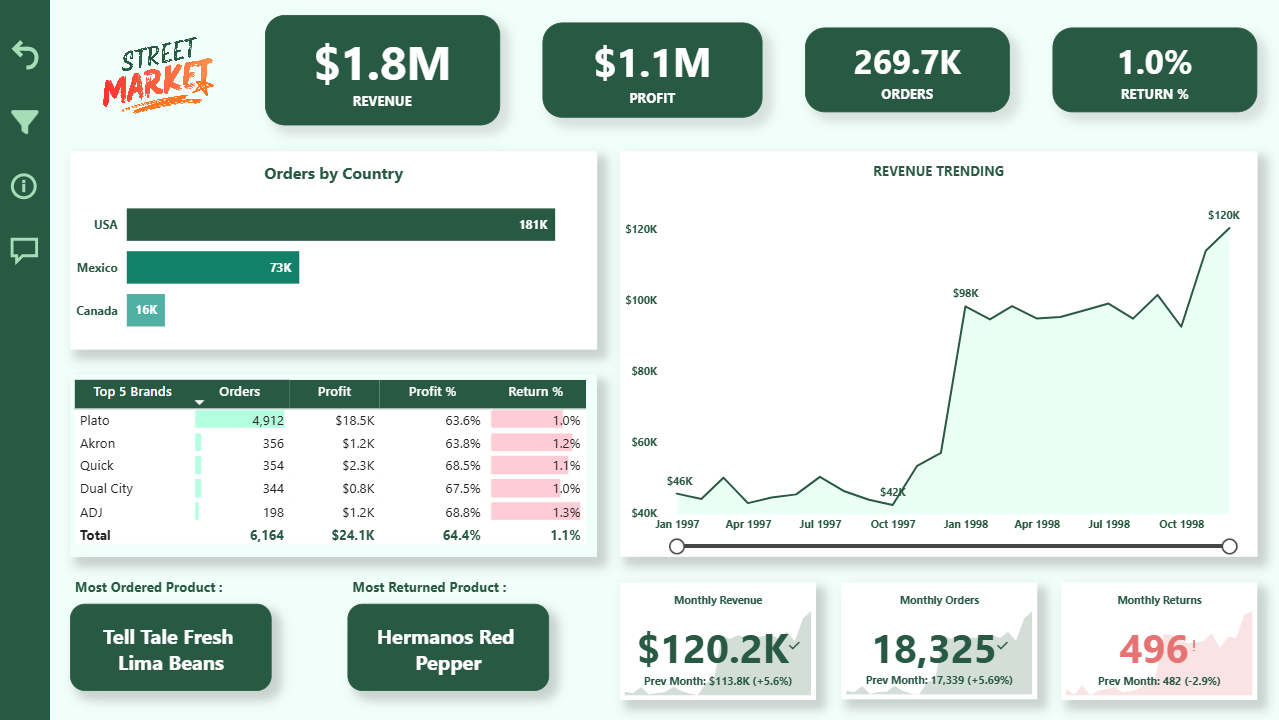

What the dashboard file says about the page in this screenshot:
{"tool":"powerbi","page":{"name":"Exec Dashboard","canvas":[1280,720],"ordinal":0},"visuals":[{"type":"shape","title":"Left Nav''s BG","box":[0,0,50,720],"z":0},{"type":"image","box":[80,0,160,151.2],"z":1000},{"type":"card","fields":{"Values":["Measure Table.Total Revenue"]},"box":[265,14.7,235,110],"z":2000},{"type":"barChart","title":"Orders by Country","fields":{"Category":["Stores Info.store_country"],"Y":["Measure Table.Total Transactions"]},"box":[70,151.2,527.5,198.8],"z":3000},{"type":"pivotTable","fields":{"Rows":["Products Info.product_brand"],"Values":["Measure Table.Total Transactions","Measure Table.Total Profit","Measure Table.Profit Margin","Measure Table.Return Rate"]},"box":[70,375,527.5,182.5],"z":4000},{"type":"lineChart","title":"REVENUE TRENDING","fields":{"Category":["Calendar Info.Start of Month"],"Y":["Measure Table.Total Revenue"]},"box":[619.6,151.5,637.7,405.9],"z":5000},{"type":"card","fields":{"Values":["Measure Table.Total Profit"]},"box":[542.5,22.2,220,95],"z":6000},{"type":"card","fields":{"Values":["Measure Table.Total Transactions"]},"box":[805,27.2,205,85],"z":7000},{"type":"card","fields":{"Values":["Measure Table.Return Rate"]},"box":[1052.5,27.2,205,85],"z":8000},{"type":"kpi","title":"Monthly Revenue","fields":{"Goal":["Measure Table.Last Month Revenue"],"Indicator":["Measure Table.Total Revenue"],"TrendLine":["Calendar Info.Start of Month"]},"box":[620,582.5,196.2,117.5],"z":9000},{"type":"kpi","title":"Monthly Orders","fields":{"Goal":["Measure Table.Last Month Transaction"],"Indicator":["Measure Table.Total Transactions"],"TrendLine":["Calendar Info.Start of Month"]},"box":[840.6,583,196.2,117],"z":10000},{"type":"kpi","title":"Monthly Returns","fields":{"Goal":["Measure Table.Last Month Return"],"Indicator":["Measure Table.Total Return Transaction"],"TrendLine":["Calendar Info.Start of Month"]},"box":[1061.2,582.5,196.2,117.5],"z":11000},{"type":"card","title":"Most Ordered Product :","fields":{"Values":["Min(Products Info.product_name)"]},"box":[70,603.8,201.2,87.5],"z":12000},{"type":"card","title":"Most Returned Product :","fields":{"Values":["Min(Products Info.product_name)"]},"box":[347.5,603.8,201.2,87.5],"z":13000},{"type":"textbox","box":[347.5,570,180,42.5],"z":14000},{"type":"textbox","box":[70,570,180,42.5],"z":15000},{"type":"actionButton","box":[5.7,33.9,38.4,41.8],"z":16000},{"type":"image","box":[11.3,103.6,27.1,37.3],"z":17000},{"type":"actionButton","box":[6.8,168.8,35.1,35.1],"z":19000}]}

Visuals, with their boxes on the page's 1280x720 design canvas (x1, y1, x2, y2). These are canvas units, not pixel positions in the 1279x720 screenshot, which may show the page scaled, cropped or inside an application window:
"Left Nav''s BG" shape: BBox(0, 0, 50, 720)
image: BBox(80, 0, 240, 151)
card - Measure Table.Total Revenue: BBox(265, 15, 500, 125)
"Orders by Country" barChart: BBox(70, 151, 598, 350)
pivotTable - Products Info.product_brand x Measure Table.Total Transactions: BBox(70, 375, 598, 558)
"REVENUE TRENDING" lineChart: BBox(620, 152, 1257, 557)
card - Measure Table.Total Profit: BBox(542, 22, 762, 117)
card - Measure Table.Total Transactions: BBox(805, 27, 1010, 112)
card - Measure Table.Return Rate: BBox(1052, 27, 1258, 112)
"Monthly Revenue" kpi: BBox(620, 582, 816, 700)
"Monthly Orders" kpi: BBox(841, 583, 1037, 700)
"Monthly Returns" kpi: BBox(1061, 582, 1257, 700)
"Most Ordered Product :" card: BBox(70, 604, 271, 691)
"Most Returned Product :" card: BBox(348, 604, 549, 691)
textbox: BBox(348, 570, 528, 612)
textbox: BBox(70, 570, 250, 612)
actionButton: BBox(6, 34, 44, 76)
image: BBox(11, 104, 38, 141)
actionButton: BBox(7, 169, 42, 204)
